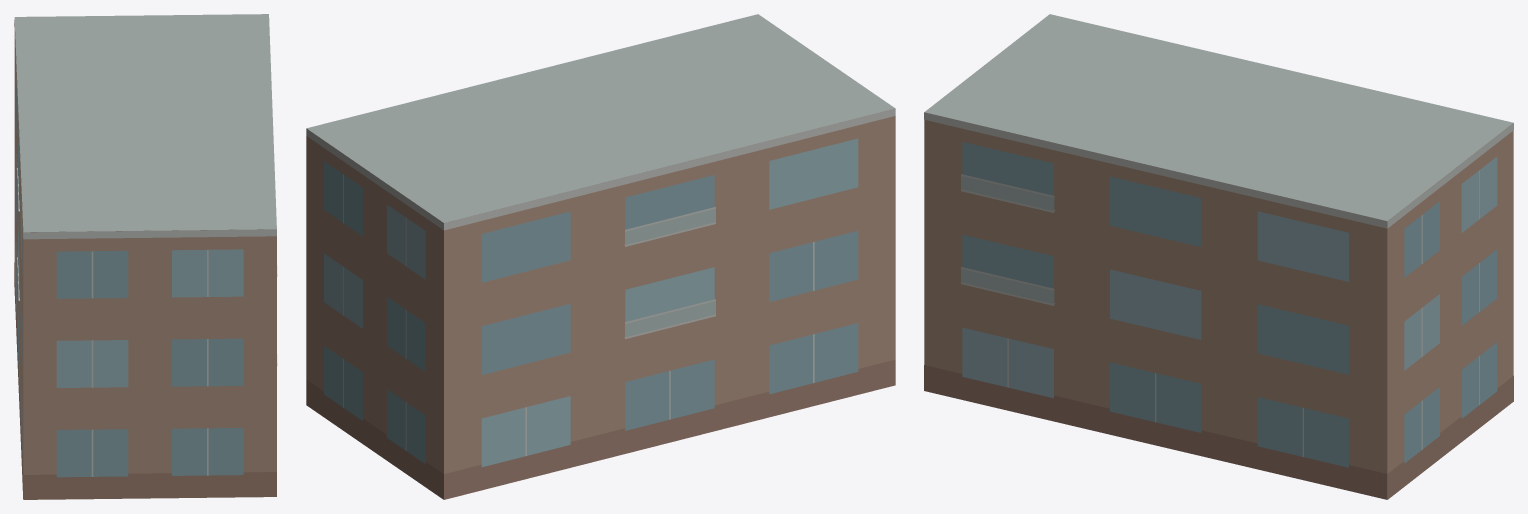
File: survey-upis-32711088.glb
3 renders of one model, left to right at view 1: azimuth 30°, elevation 25°; view 2: azimuth 150°, elevation 25°; view 3: azimuth 270°, elevation 25°, orthographic. The views are drawn at different scales.
Visible parts, largest first — view 1: survey-upis-32711088.tmp; view 2: survey-upis-32711088.tmp; view 3: survey-upis-32711088.tmp.
Boxes of the visible parts, bbox=[...] form: survey-upis-32711088.tmp: bbox=[14, 14, 277, 499]; survey-upis-32711088.tmp: bbox=[306, 14, 895, 499]; survey-upis-32711088.tmp: bbox=[924, 14, 1513, 499].
Bounding box in the file's own units: 14.6 × 9.15 × 17.55.
